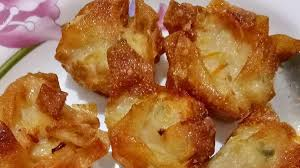Pangsit goreng: (173, 1, 295, 120), (54, 0, 164, 95), (1, 75, 102, 168), (107, 84, 218, 168)
